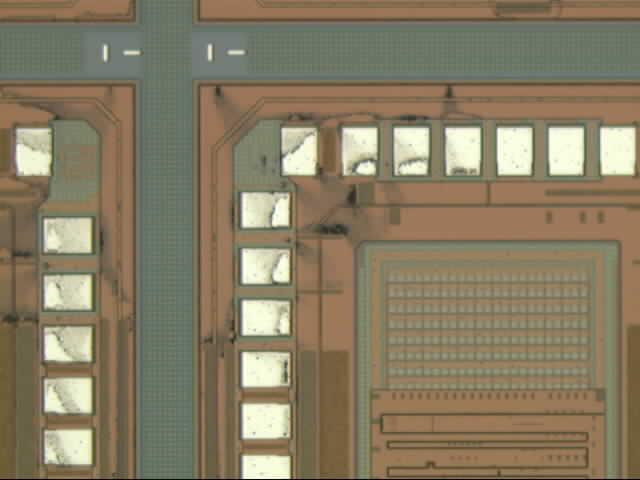BLOCK ETCH: (1, 81, 489, 468)
